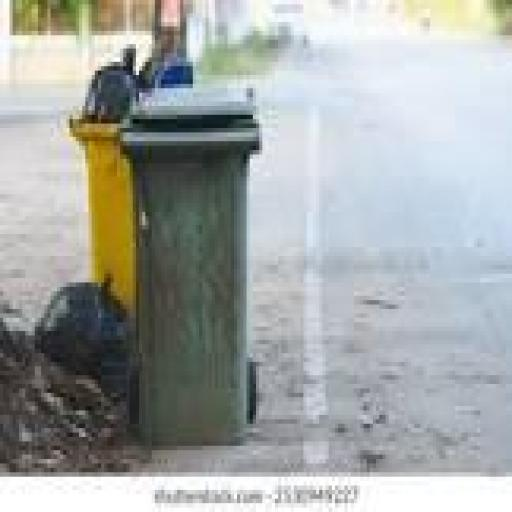poubelle_pleine: (58, 33, 176, 409)
poubelle_vide: (131, 90, 281, 450)
